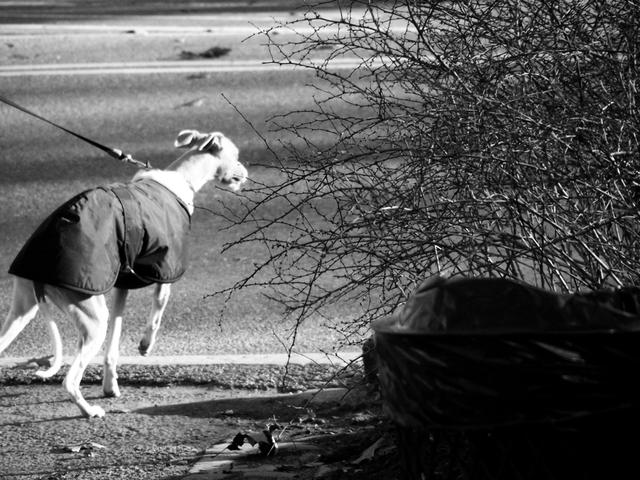dog: (1, 103, 265, 377)
